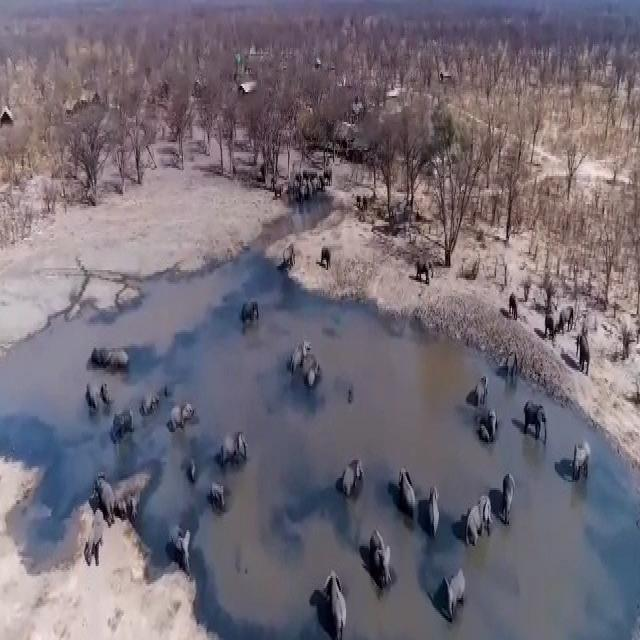Elephant: (434, 562, 472, 620), (323, 561, 347, 640), (368, 528, 398, 586), (167, 523, 196, 582), (218, 428, 254, 473), (91, 470, 117, 532), (569, 439, 600, 485), (340, 453, 365, 505), (470, 483, 488, 555), (502, 459, 520, 531), (519, 403, 548, 446), (402, 459, 419, 525), (427, 484, 447, 538), (412, 246, 435, 291), (85, 522, 107, 566), (571, 334, 593, 378), (477, 406, 501, 445), (113, 407, 137, 446), (87, 334, 110, 372), (112, 348, 140, 378), (507, 344, 526, 388), (287, 336, 306, 376), (170, 400, 197, 428), (316, 239, 334, 276), (241, 295, 261, 328), (140, 391, 164, 418), (281, 242, 299, 277), (306, 356, 323, 393), (210, 480, 223, 528), (504, 283, 518, 324), (86, 388, 104, 417), (473, 374, 490, 404), (548, 303, 560, 344), (561, 302, 576, 325), (190, 455, 198, 487)
